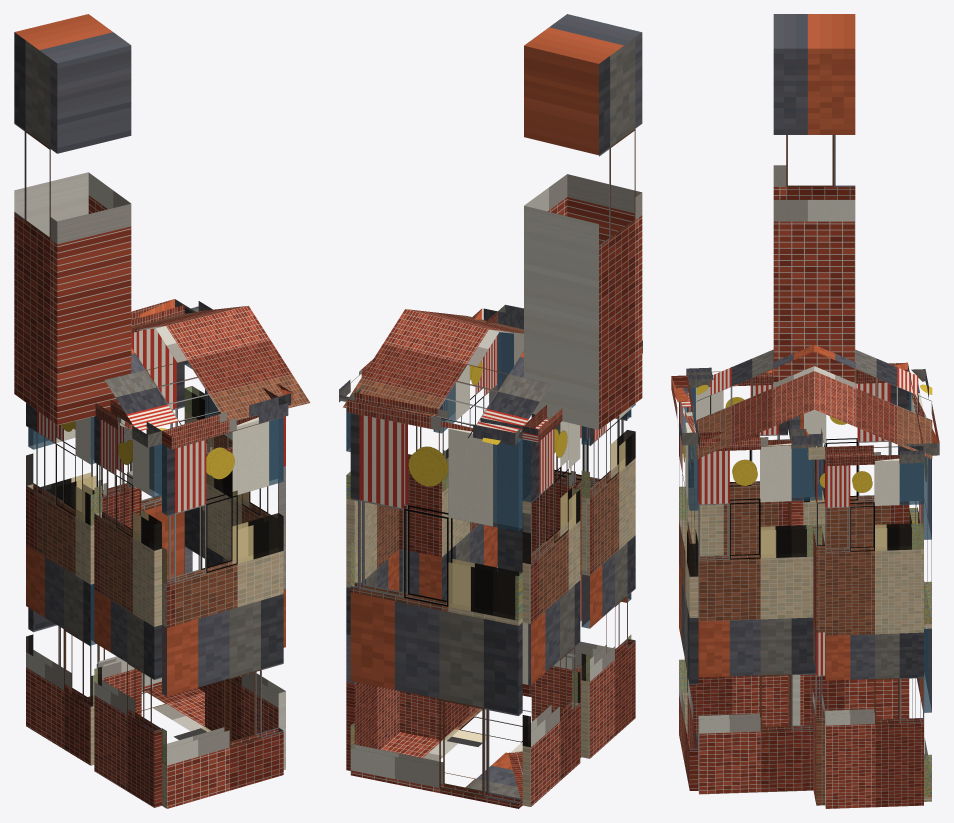
3 renders of one model, left to right at view 1: azimuth 30°, elevation 25°; view 2: azimuth 150°, elevation 25°; view 3: azimuth 270°, elevation 25°, orthographic. The views are drawn at different scales.
Parts seen in each view (by area): view 1: 1106965461__chimney_0_xb, 1106965461__wall_4_xb, 1106965461__wall_5_xb, 1106965461__wall_9_xb, 1106965461_roof_-1_xb, 1106965461__wall_3_xb, 1106965461__wall_0_xb, 1106965461__wall_4_xf, 1106965461__cornice_4, 1106965461__wall_6_xb, 1106965461__wall_1_xb, 1106965461__base (+8 smaller); view 2: 1106965461__chimney_0_xb, 1106965461__wall_0_xb, 1106965461__wall_9_xb, 1106965461__wall_5_xb, 1106965461_roof_1_xb, 1106965461__wall_1_xb, 1106965461__wall_0_xf, 1106965461__wall_2_xb, 1106965461__wall_3_xb, 1106965461__base, 1106965461__wall_8_xb, 1106965461__wall_4_xb (+7 smaller); view 3: 1106965461__wall_3_xb, 1106965461__wall_1_xb, 1106965461__chimney_0_xb, 1106965461__wall_5_xb, 1106965461__wall_9_xb, 1106965461_roof_1_xb, 1106965461_roof_-1_xb, 1106965461__wall_4_xb, 1106965461__wall_2_xb, 1106965461__wall_3_xf, 1106965461__wall_0_xb, 1106965461__wall_1_xf (+8 smaller).
Part boxes in pixels (bbox=[...]): 1106965461__chimney_0_xb: bbox=[14, 14, 131, 425]; 1106965461__wall_4_xb: bbox=[162, 417, 283, 808]; 1106965461__wall_5_xb: bbox=[94, 416, 161, 807]; 1106965461__wall_9_xb: bbox=[26, 403, 95, 765]; 1106965461_roof_-1_xb: bbox=[104, 305, 310, 430]; 1106965461__wall_3_xb: bbox=[205, 389, 285, 769]; 1106965461__wall_0_xb: bbox=[28, 328, 184, 698]; 1106965461__wall_4_xf: bbox=[162, 417, 283, 764]; 1106965461__cornice_4: bbox=[162, 397, 288, 449]; 1106965461__wall_6_xb: bbox=[96, 423, 134, 698]; 1106965461__wall_1_xb: bbox=[184, 361, 250, 691]; 1106965461__base: bbox=[141, 686, 210, 739]; 1106965461__chimney_0_xb: bbox=[524, 14, 642, 429]; 1106965461__wall_0_xb: bbox=[350, 413, 522, 808]; 1106965461__wall_9_xb: bbox=[522, 418, 580, 806]; 1106965461__wall_5_xb: bbox=[581, 403, 635, 758]; 1106965461_roof_1_xb: bbox=[343, 309, 550, 444]; 1106965461__wall_1_xb: bbox=[346, 408, 399, 770]; 1106965461__wall_0_xf: bbox=[351, 439, 522, 748]; 1106965461__wall_2_xb: bbox=[399, 400, 445, 740]; 1106965461__wall_3_xb: bbox=[433, 335, 497, 739]; 1106965461__base: bbox=[380, 708, 531, 798]; 1106965461__wall_8_xb: bbox=[531, 414, 575, 721]; 1106965461__wall_4_xb: bbox=[497, 332, 631, 697]; 1106965461__wall_3_xb: bbox=[698, 443, 822, 794]; 1106965461__wall_1_xb: bbox=[825, 458, 923, 808]; 1106965461__chimney_0_xb: bbox=[773, 14, 855, 382]; 1106965461__wall_5_xb: bbox=[687, 385, 787, 733]; 1106965461__wall_9_xb: bbox=[804, 382, 909, 725]; 1106965461_roof_1_xb: bbox=[814, 345, 932, 458]; 1106965461_roof_-1_xb: bbox=[696, 345, 814, 458]; 1106965461__wall_4_xb: bbox=[679, 388, 698, 790]; 1106965461__wall_2_xb: bbox=[812, 459, 824, 805]; 1106965461__wall_3_xf: bbox=[761, 448, 821, 557]; 1106965461__wall_0_xb: bbox=[909, 385, 931, 801]; 1106965461__wall_1_xf: bbox=[851, 463, 923, 550].
Bounding box in the file's own units: 0.461 × 1.4 × 0.4923.
1 material, 1 textured.
